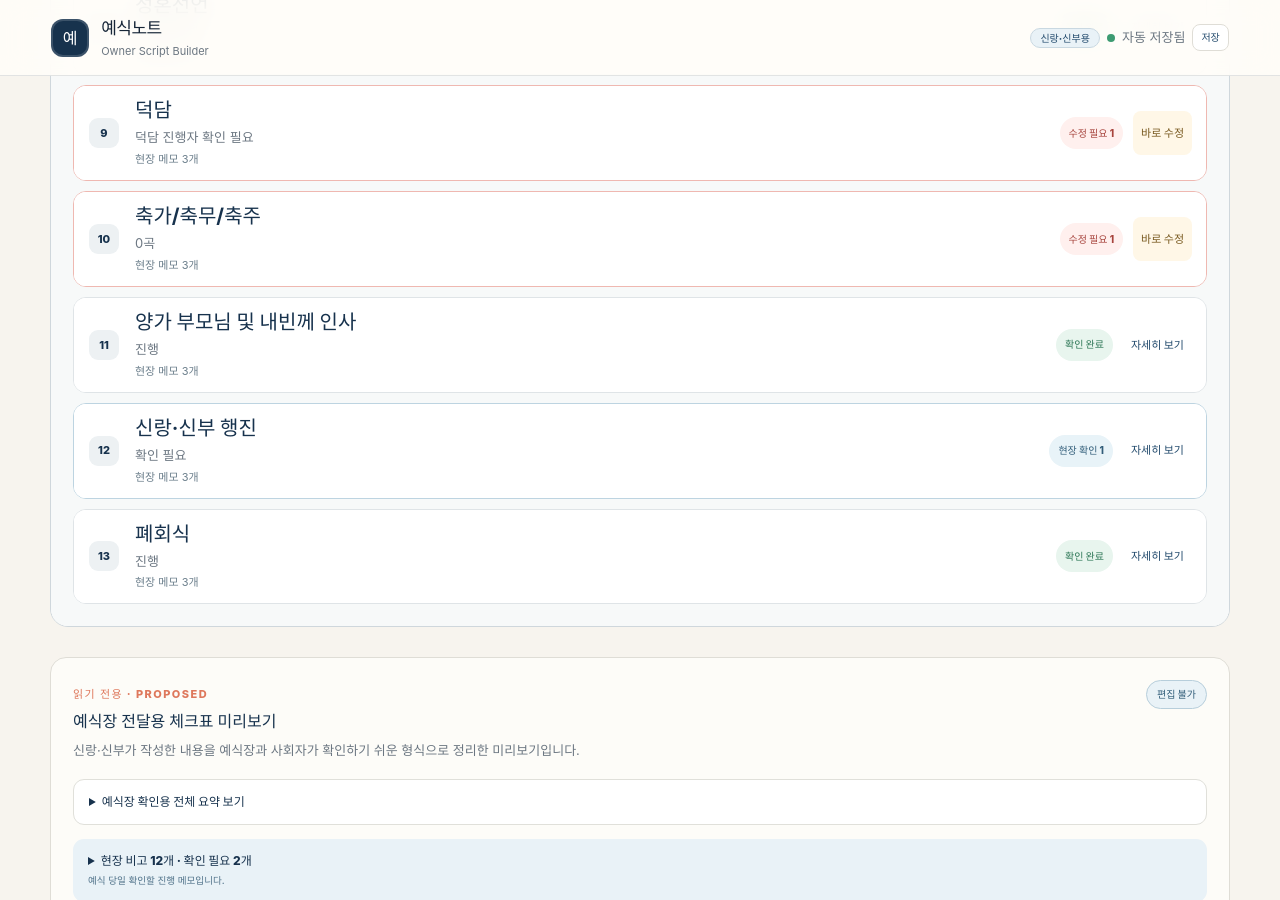
it: Owner 최종 확인 W4.1 개선 › 전용 필드가 없는 현장 확인은 빨간 수정 동작을 만들지 않고 상세에 표시한다
The width and height of the screenshot is (1280, 900).
(page scrolled)
Expected: the list item "12 신랑·신부 행진 확인 필요 현장 메모 3개 현장 확인 1 자세히 보기" is shown, [73,403,1207,499]
Step 1. Click the 2nd button "자세히 보기" → (1158, 451), box [1123,429,1192,473]
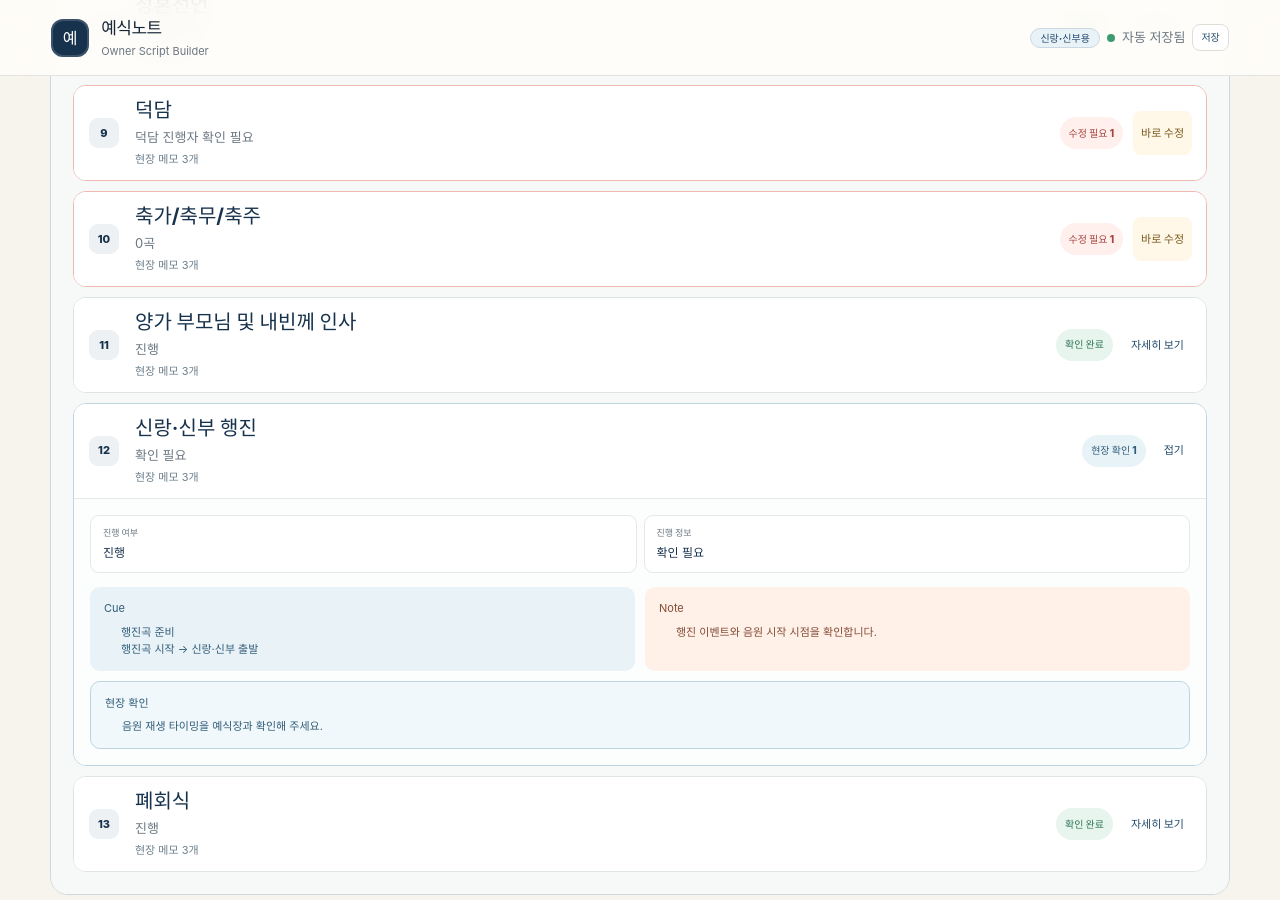
Expected: the list item "음원 재생 타이밍을 예식장과 확인해 주세요." is shown, [122,719,323,733]
